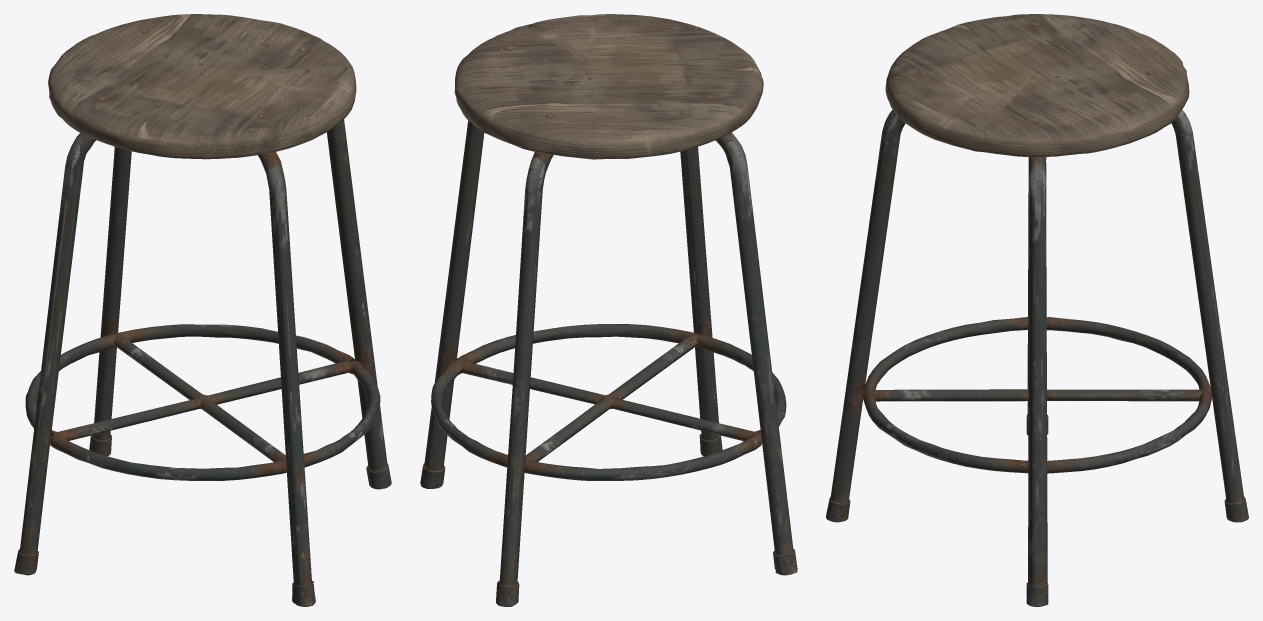
Rendered from silo81_stool.glb.
3 renders of one model, left to right at view 1: azimuth 30°, elevation 25°; view 2: azimuth 150°, elevation 25°; view 3: azimuth 270°, elevation 25°, orthographic. The views are drawn at different scales.
Size of the model in its own units: 0.8198 by 0.9517 by 0.8169.
1 material, 1 textured.
